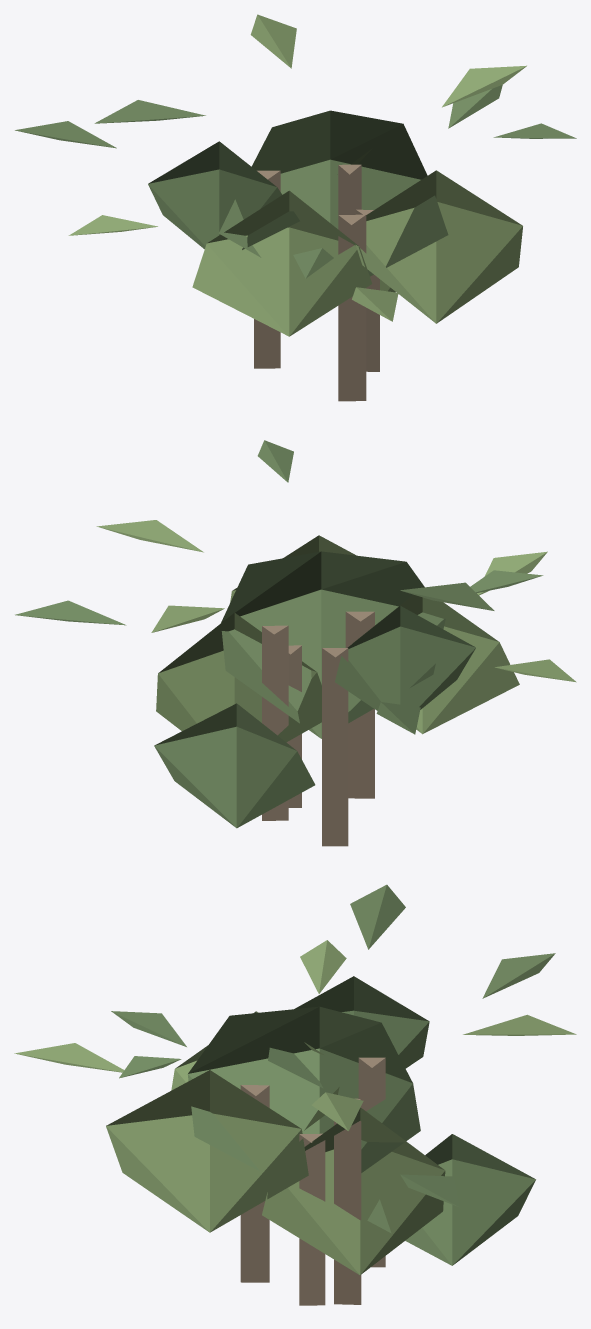
File: guan.huanglu@subadult__summer.glb
The picture shows the model from 3 angles, top to bottom: view 1: azimuth 30°, elevation 25°; view 2: azimuth 150°, elevation 25°; view 3: azimuth 270°, elevation 25°; orthographic projection. The views are drawn at different scales.
Parts seen in each view (by area): view 1: guan.huanglu@subadult__summer; view 2: guan.huanglu@subadult__summer; view 3: guan.huanglu@subadult__summer.
Part boxes in pixels (x1,y1,x2,y2): guan.huanglu@subadult__summer: (15, 14, 576, 401); guan.huanglu@subadult__summer: (15, 440, 576, 846); guan.huanglu@subadult__summer: (14, 884, 576, 1305).
Size of the model in its own units: 2.45 by 1.35 by 2.26.
